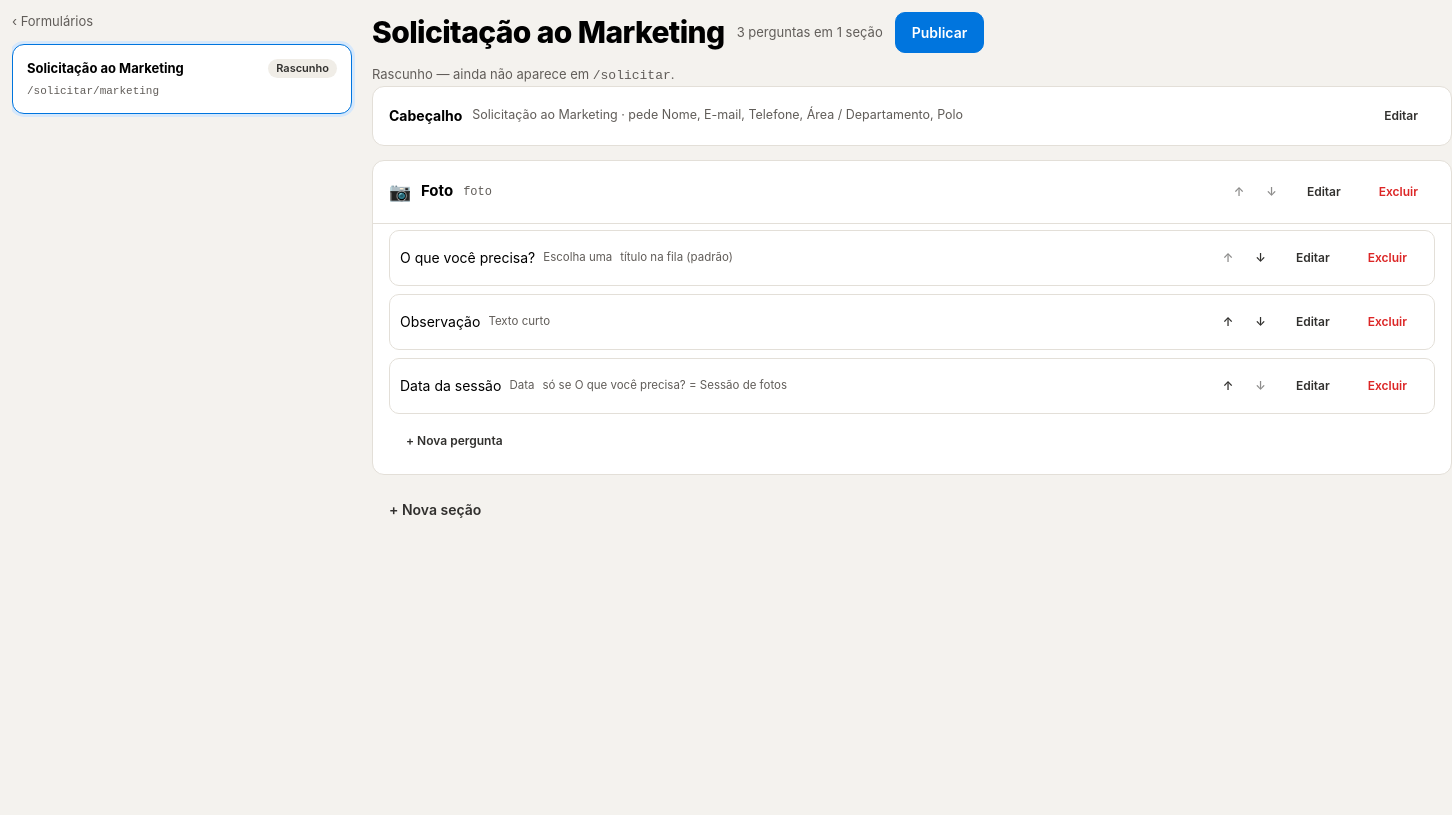
Test: erros › ⚠️ a mensagem do backend aparece INTEIRA -- é ela que nomeia a pergunta
The width and height of the screenshot is (1452, 815).
Click the button "Editar" in the row of "título na fila (padrão)" at (1313, 258), box x1=1279 y1=238 x2=1347 y2=276
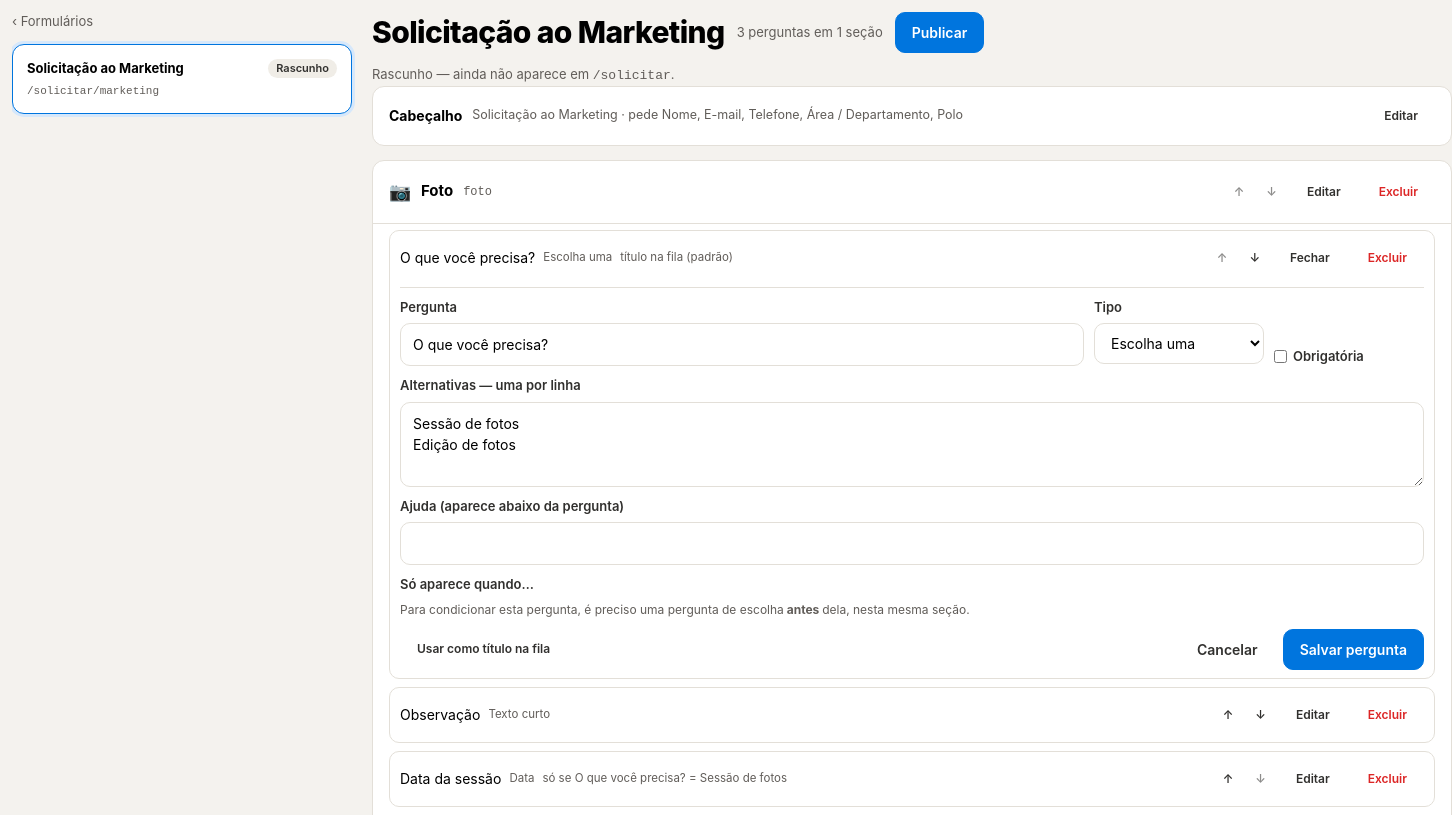
Click the button "Salvar pergunta" at (1353, 649), box x1=1283 y1=628 x2=1424 y2=670
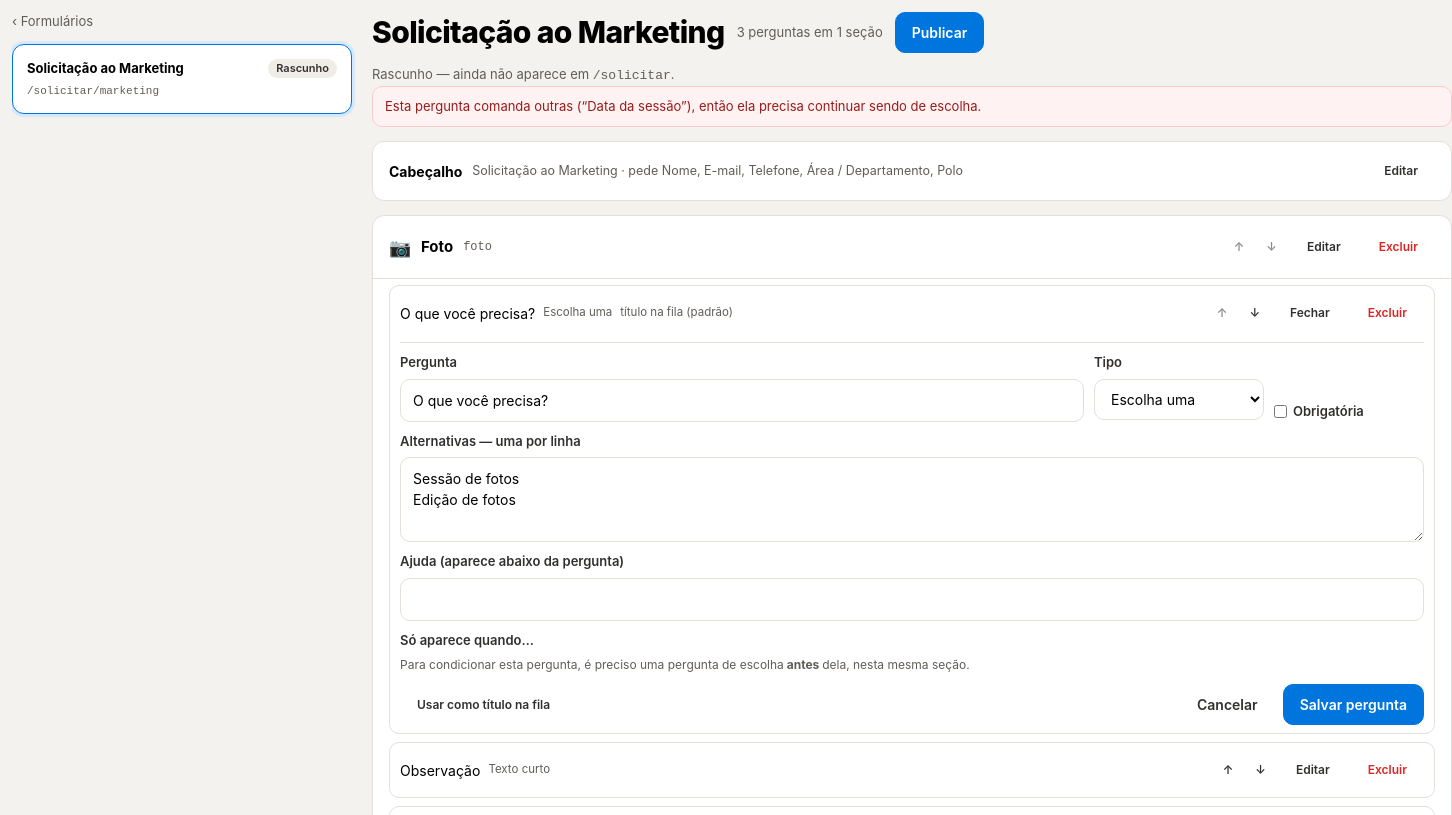
Expected: the message is shown, x1=372 y1=86 x2=1451 y2=127
Expected: the text "comanda outras" is shown, x1=385 y1=98 x2=981 y2=114
